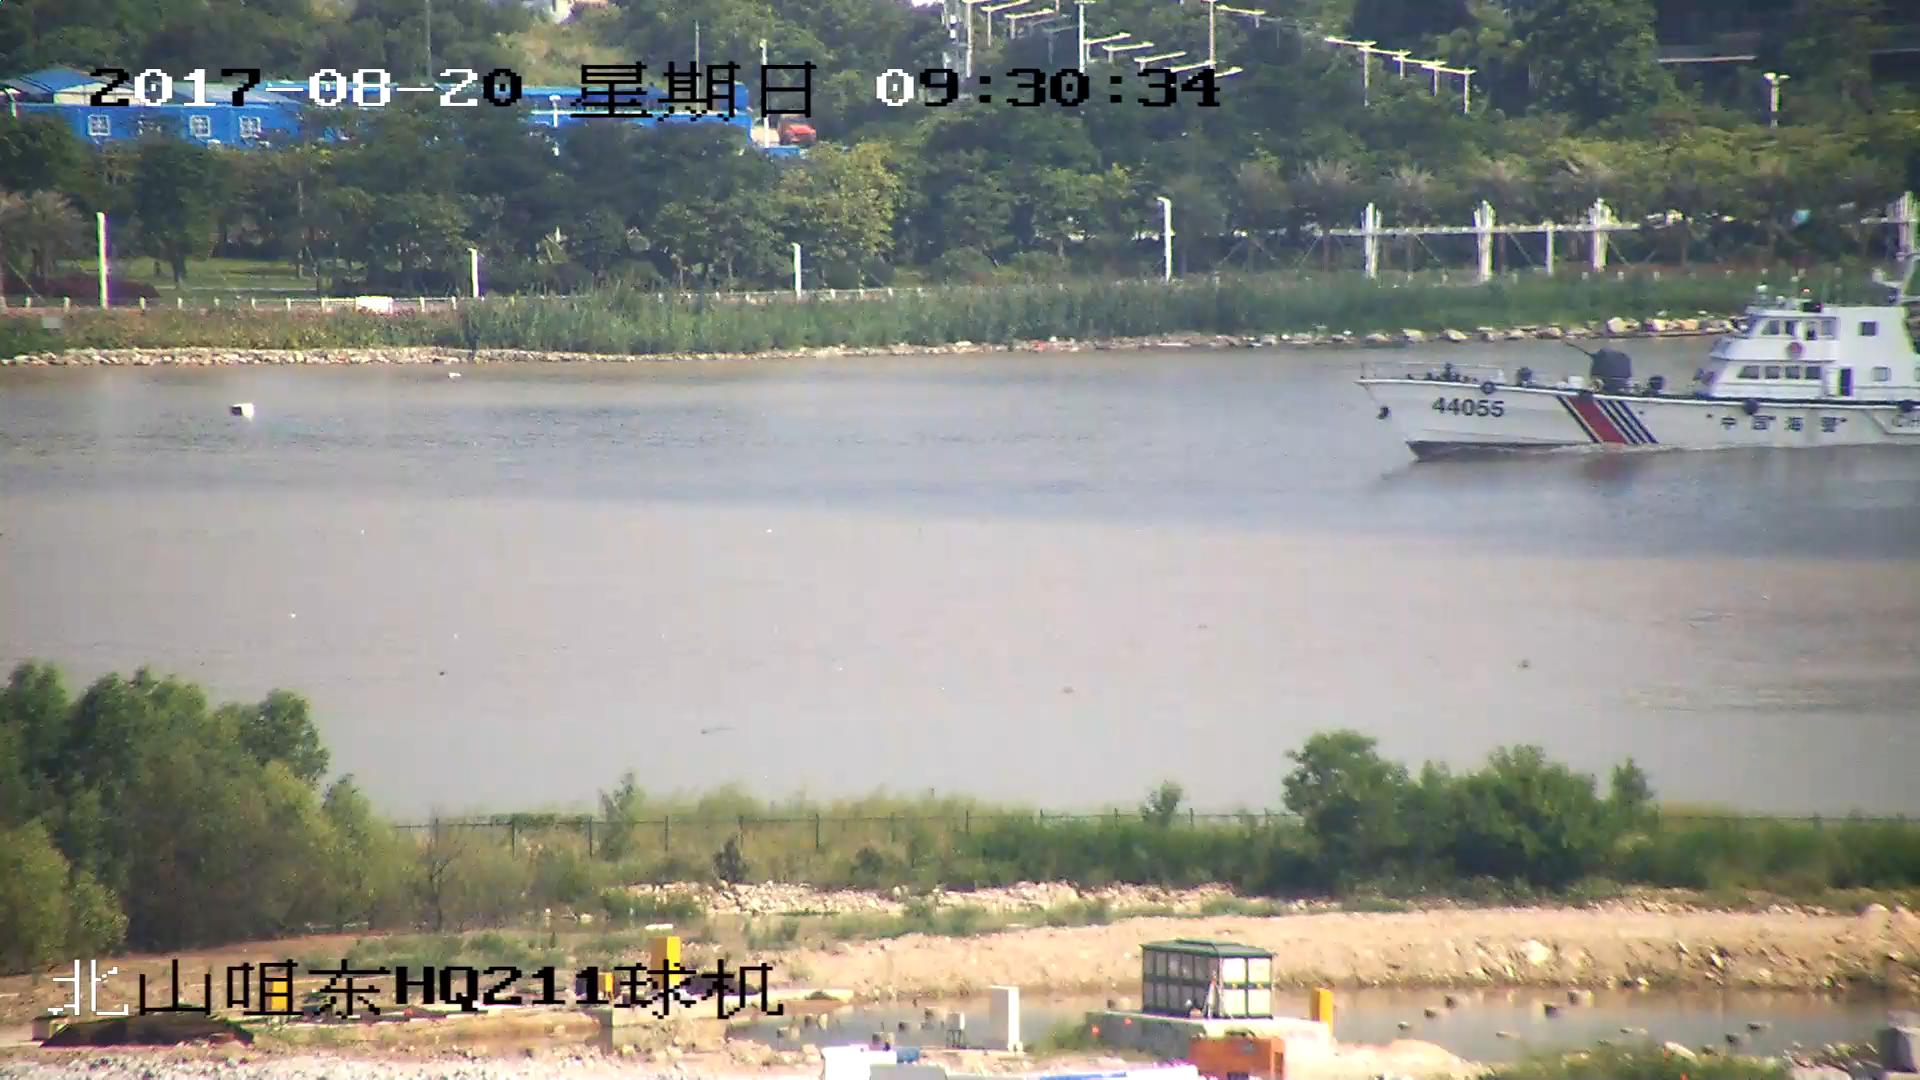passenger ship: (1366, 280, 1920, 464)
